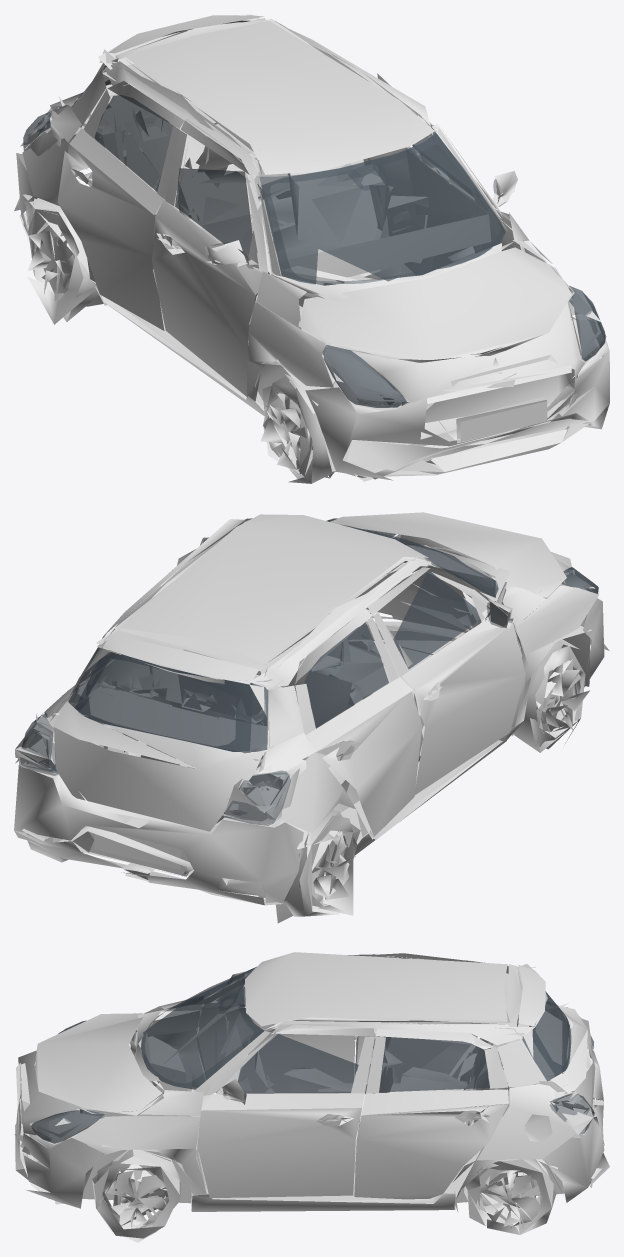
Rendered from swift_lod.glb.
3 renders of one model, top to bottom at view 1: azimuth 30°, elevation 25°; view 2: azimuth 150°, elevation 25°; view 3: azimuth 270°, elevation 25°, orthographic. The views are drawn at different scales.
Visible parts, largest first — view 1: swift, glass; view 2: swift, glass; view 3: swift, glass.
Part boxes in pixels (bbox=[...]): swift: bbox=[14, 14, 609, 483]; glass: bbox=[23, 20, 606, 407]; swift: bbox=[14, 512, 609, 923]; glass: bbox=[20, 518, 598, 825]; swift: bbox=[14, 952, 609, 1242]; glass: bbox=[31, 966, 594, 1143].
Bounding box in the file's own units: 1.9 × 1.48 × 3.91.
